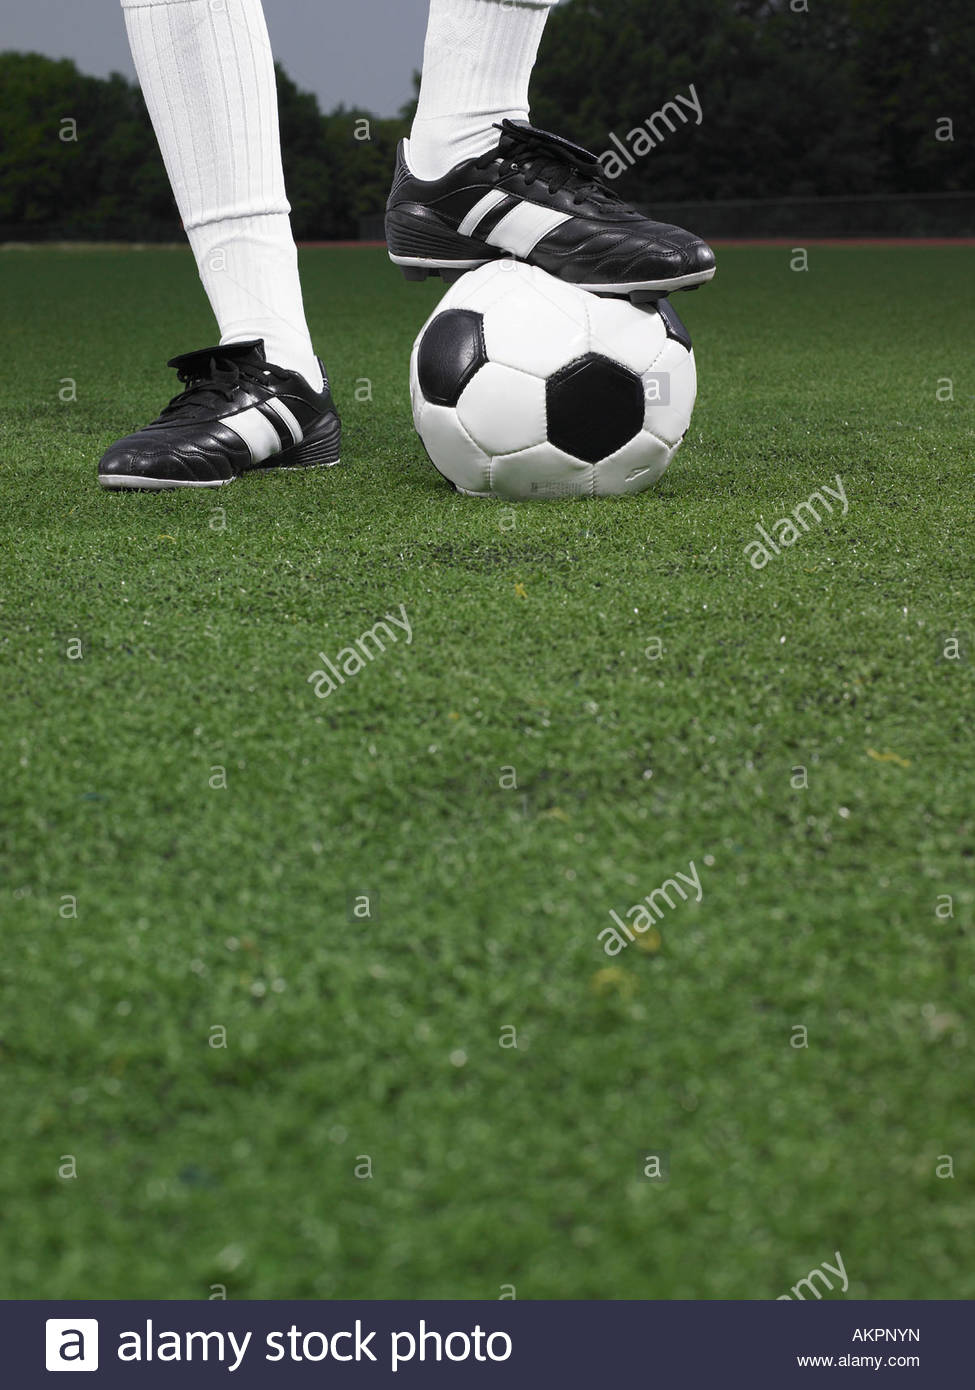football boots: (387, 133, 712, 299), (94, 353, 348, 489)
